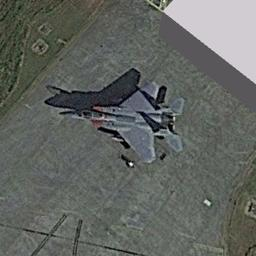Airplane: (68, 80, 185, 168)
